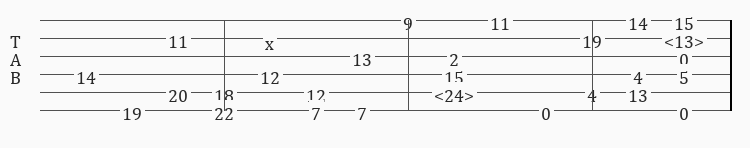0: (541, 102, 555, 118), (679, 48, 693, 64), (679, 102, 693, 118)
11: (168, 30, 192, 46), (490, 12, 514, 28)
12: (260, 66, 284, 82), (306, 84, 330, 100)
13: (352, 48, 376, 64), (628, 84, 652, 100)
14: (76, 66, 100, 82), (628, 12, 652, 28)
15: (444, 66, 468, 83), (674, 12, 698, 29)
18: (214, 84, 238, 100)
19: (122, 102, 146, 118), (582, 30, 606, 46)
2: (449, 48, 463, 64)
20: (168, 84, 192, 100)
22: (214, 102, 238, 118)
4: (587, 84, 601, 100), (633, 66, 647, 82)
5: (679, 66, 693, 83)
7: (311, 102, 325, 119), (357, 102, 371, 119)
9: (403, 12, 417, 28)
harmonic: (434, 84, 478, 100), (664, 30, 708, 46)
x: (265, 32, 278, 45)
